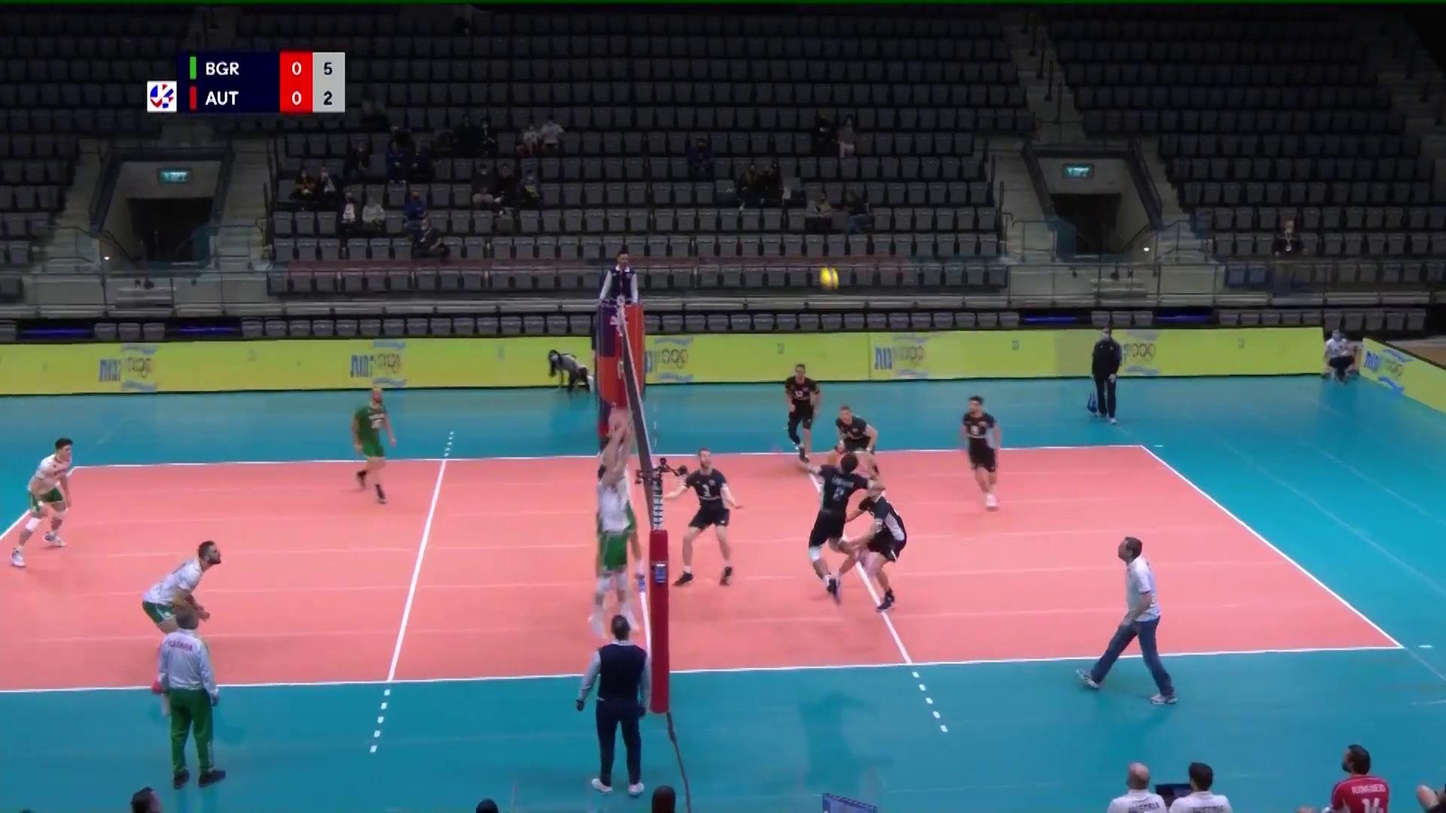ball: (819, 267, 840, 293)
